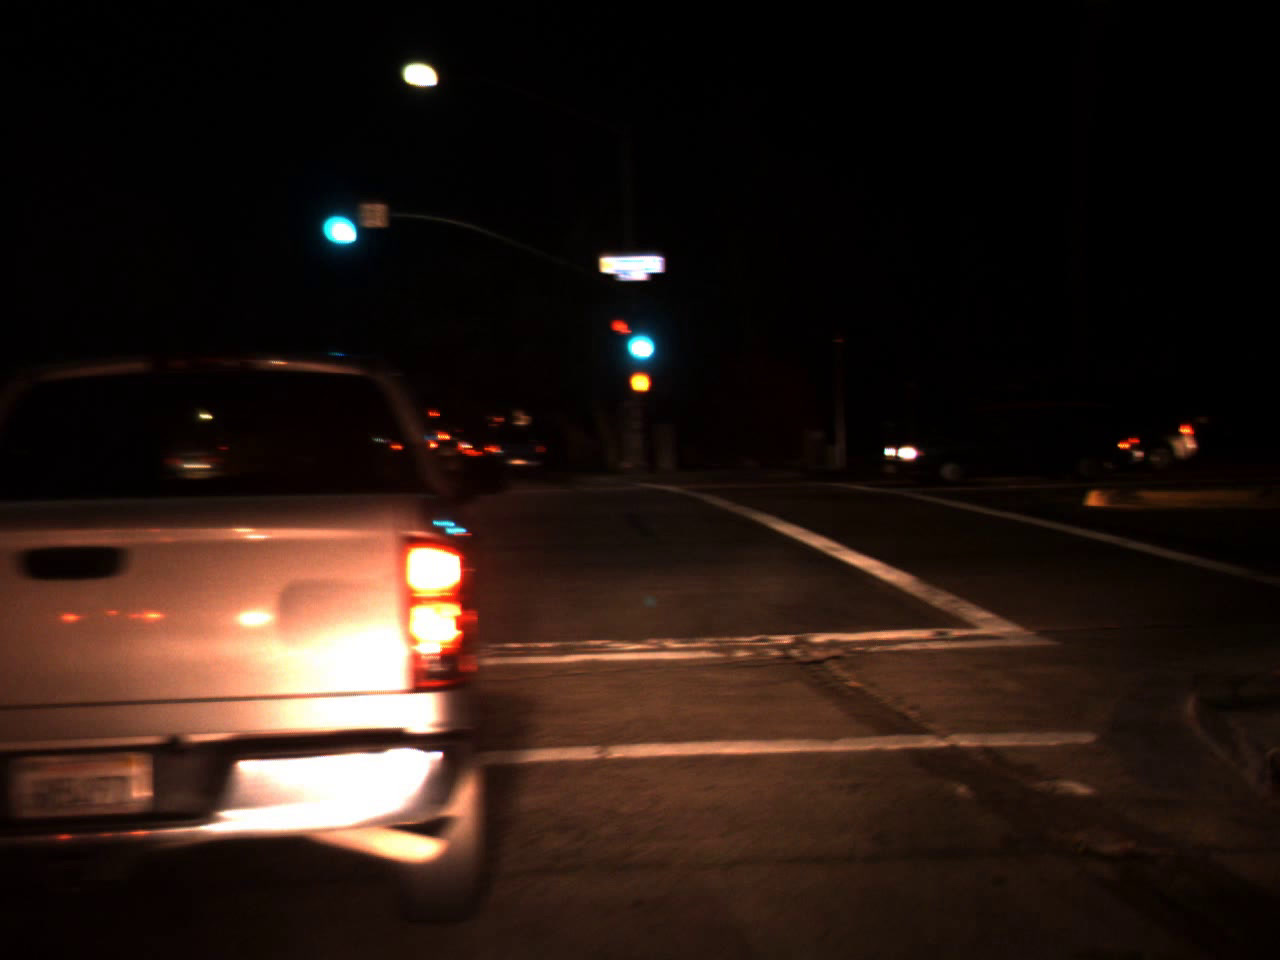go: (312, 179, 364, 257), (615, 303, 661, 369)
